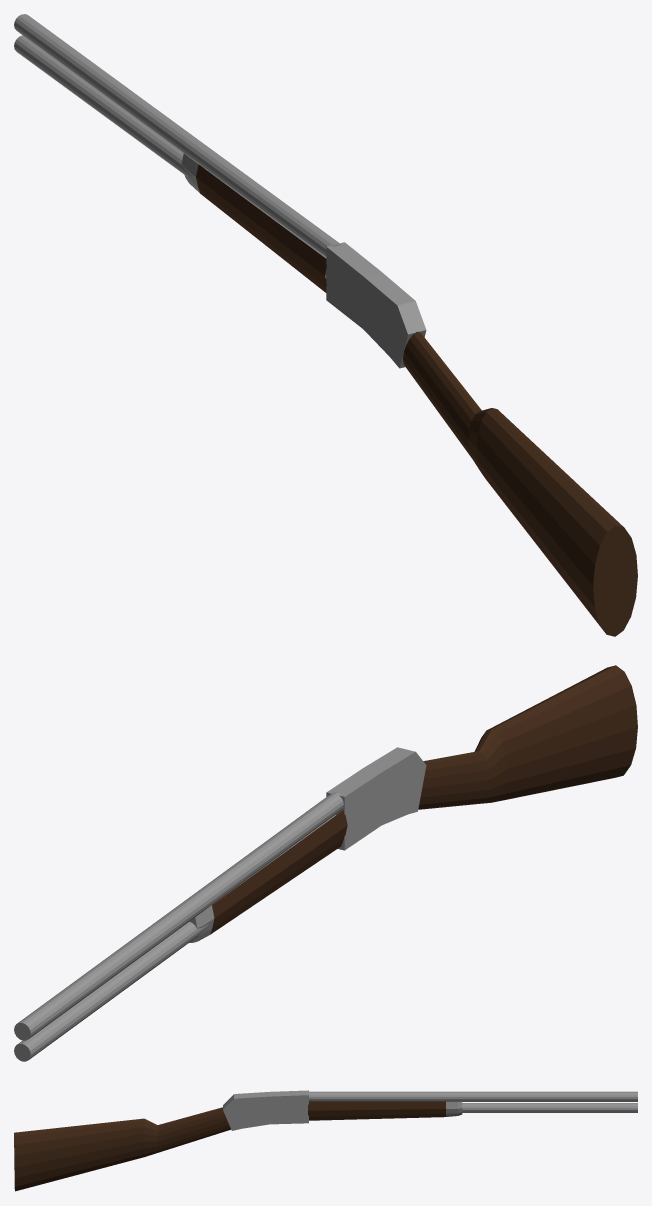
Rendered from gun.fbx.
The picture shows the model from 3 angles, top to bottom: view 1: azimuth 30°, elevation 25°; view 2: azimuth 150°, elevation 25°; view 3: azimuth 270°, elevation 25°; orthographic projection. The views are drawn at different scales.
Visible parts, largest first — view 1: Cube.001; view 2: Cube.001; view 3: Cube.001.
Boxes of the visible parts, bbox=[...] form: Cube.001: bbox=[14, 14, 637, 636]; Cube.001: bbox=[14, 665, 637, 1061]; Cube.001: bbox=[14, 1090, 637, 1191].
Bounding box in the file's own units: 4.33 × 17.43 × 99.3.
